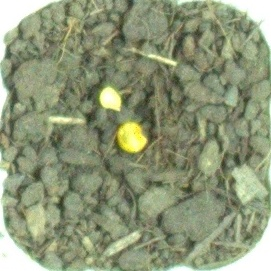chilli seed: (114, 121, 149, 154), (97, 86, 126, 113)
